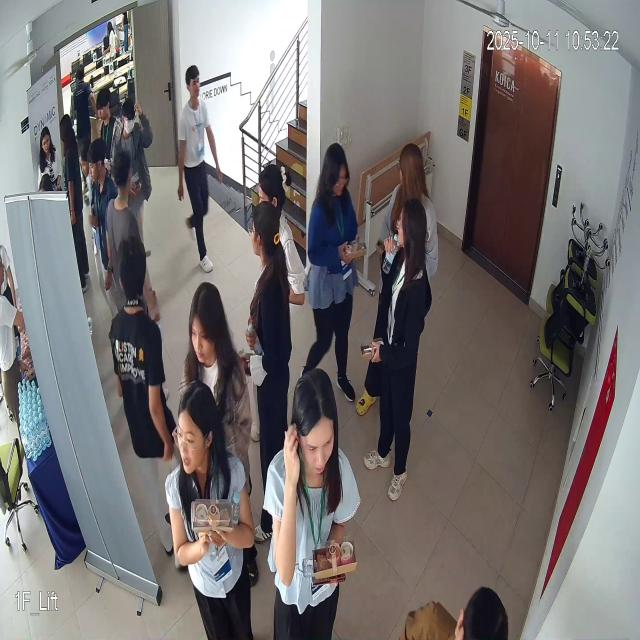face: (170, 378, 218, 474), (320, 142, 354, 207)
